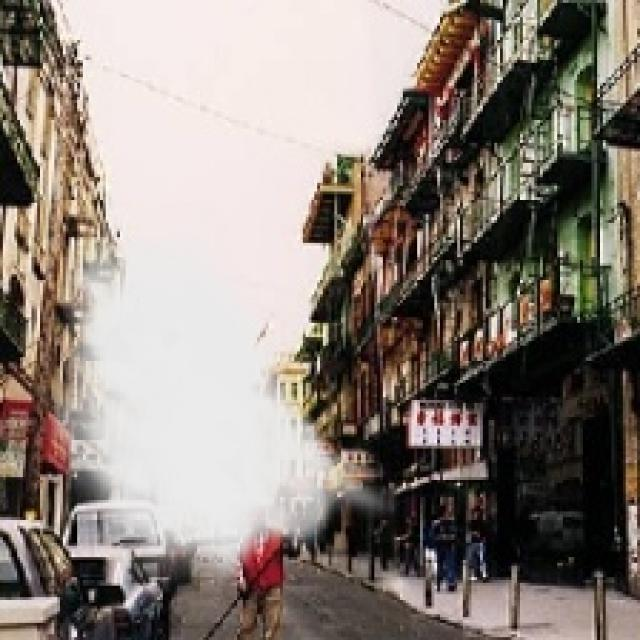Smoke: (43, 202, 403, 594)
